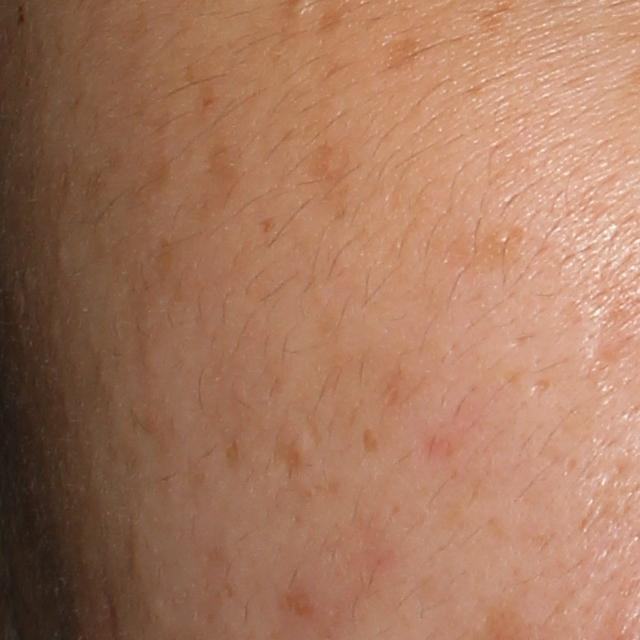melasma: (303, 138, 358, 222), (135, 97, 177, 196), (381, 36, 422, 70)
